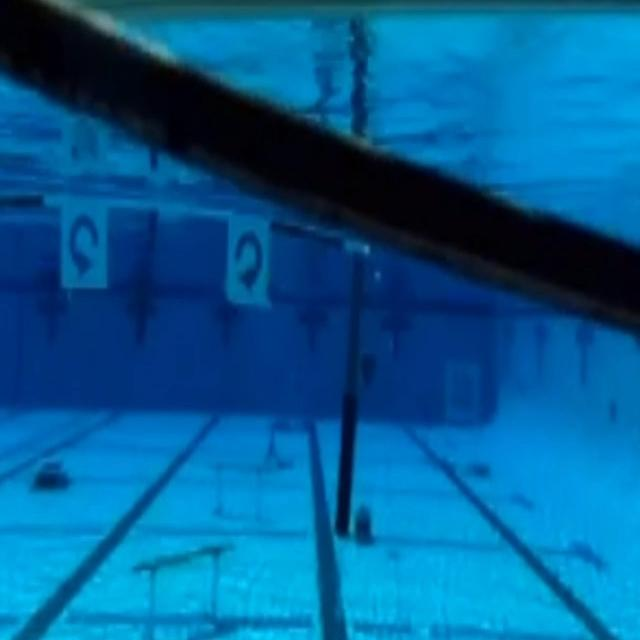Gate: (0, 167, 378, 555)
